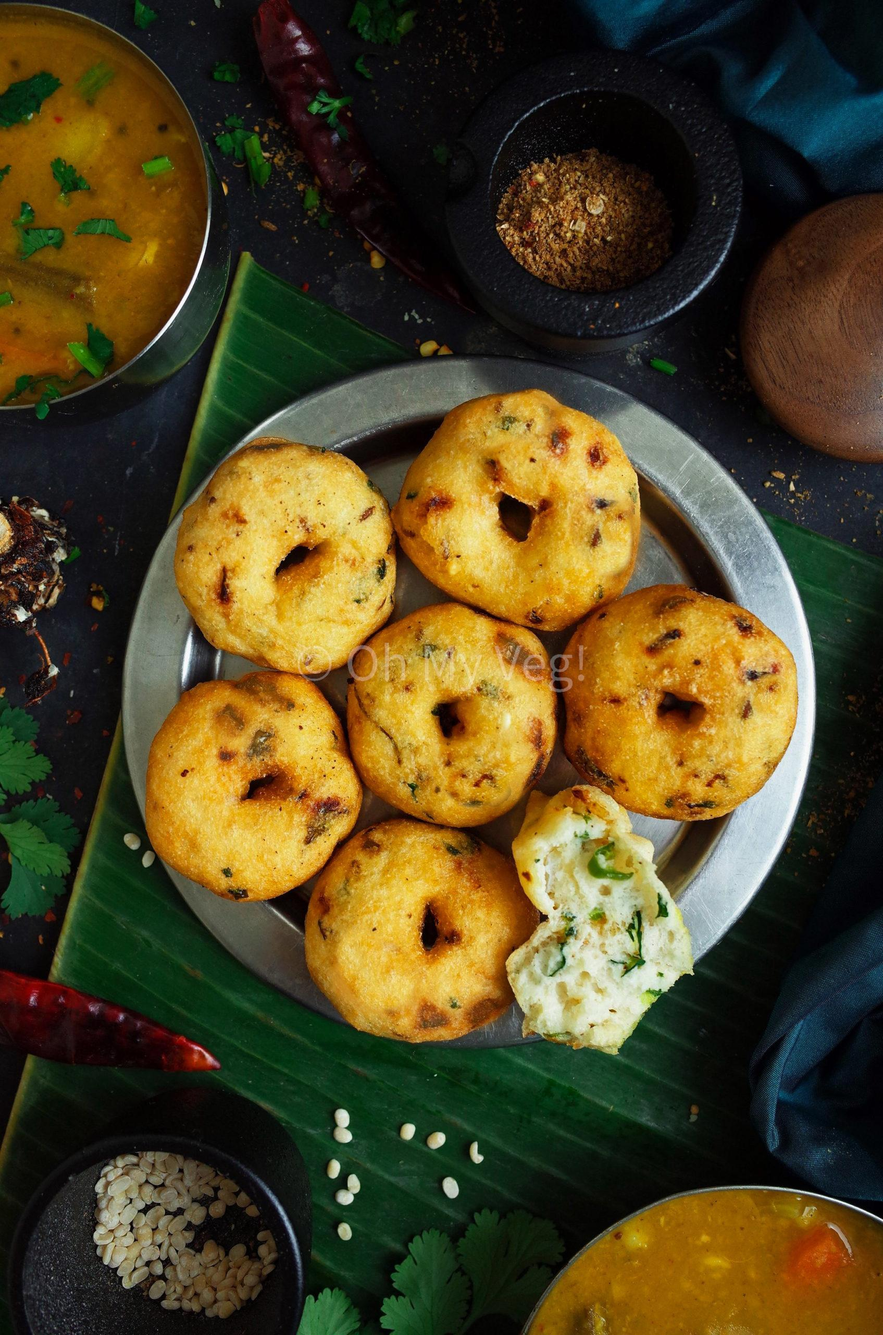mvada: (236, 461, 742, 1020)
